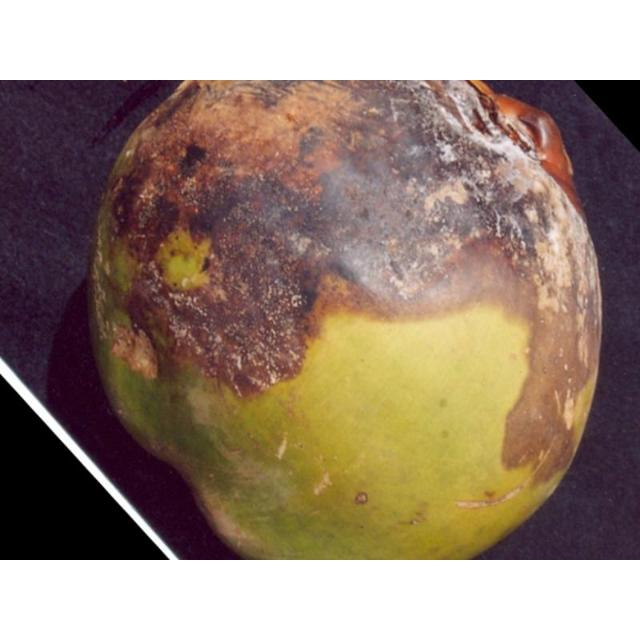damaged: (89, 80, 601, 559)
